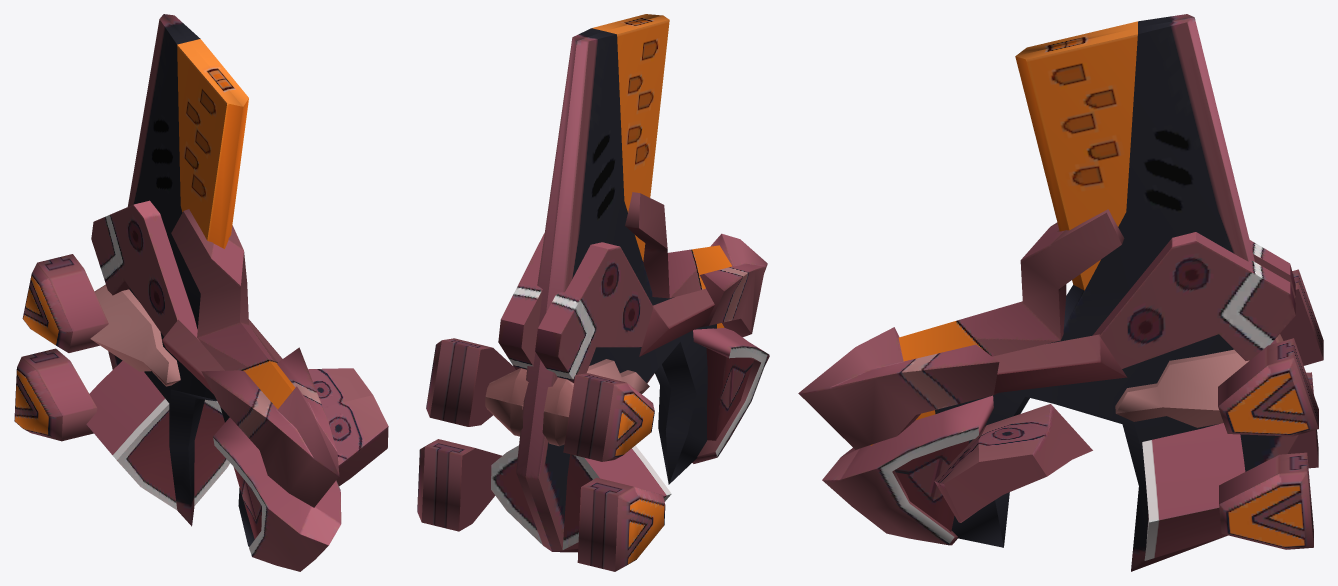
File: _Eva_Part_armorARM_R.fbx
3 renders of one model, left to right at view 1: azimuth 30°, elevation 25°; view 2: azimuth 150°, elevation 25°; view 3: azimuth 270°, elevation 25°, orthographic. The views are drawn at different scales.
Visible parts, largest first — view 1: _Eva_Part_armorARM_R; view 2: _Eva_Part_armorARM_R; view 3: _Eva_Part_armorARM_R.
Boxes of the visible parts, x1=… form: _Eva_Part_armorARM_R: x1=14, y1=14, x2=388, y2=571; _Eva_Part_armorARM_R: x1=417, y1=14, x2=769, y2=571; _Eva_Part_armorARM_R: x1=798, y1=14, x2=1323, y2=571.
Size of the model in its own units: 0.00603 by 0.013 by 0.0111.
